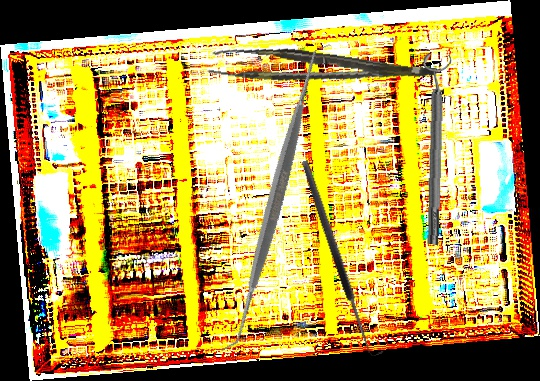Fixation Ring: (416, 54, 454, 245)
Hook Surgical: (299, 156, 386, 359)
Spatula Surgical: (122, 43, 429, 352)
Tissue Forceps: (206, 36, 438, 105)
